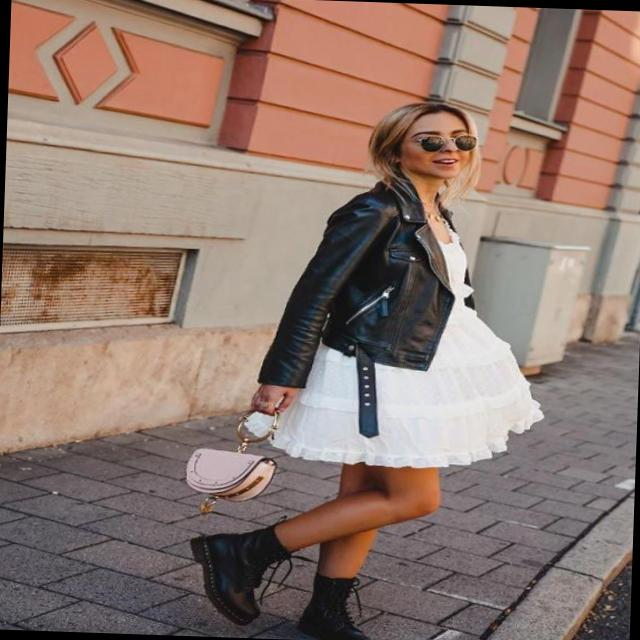Jacket: (245, 172, 559, 409)
